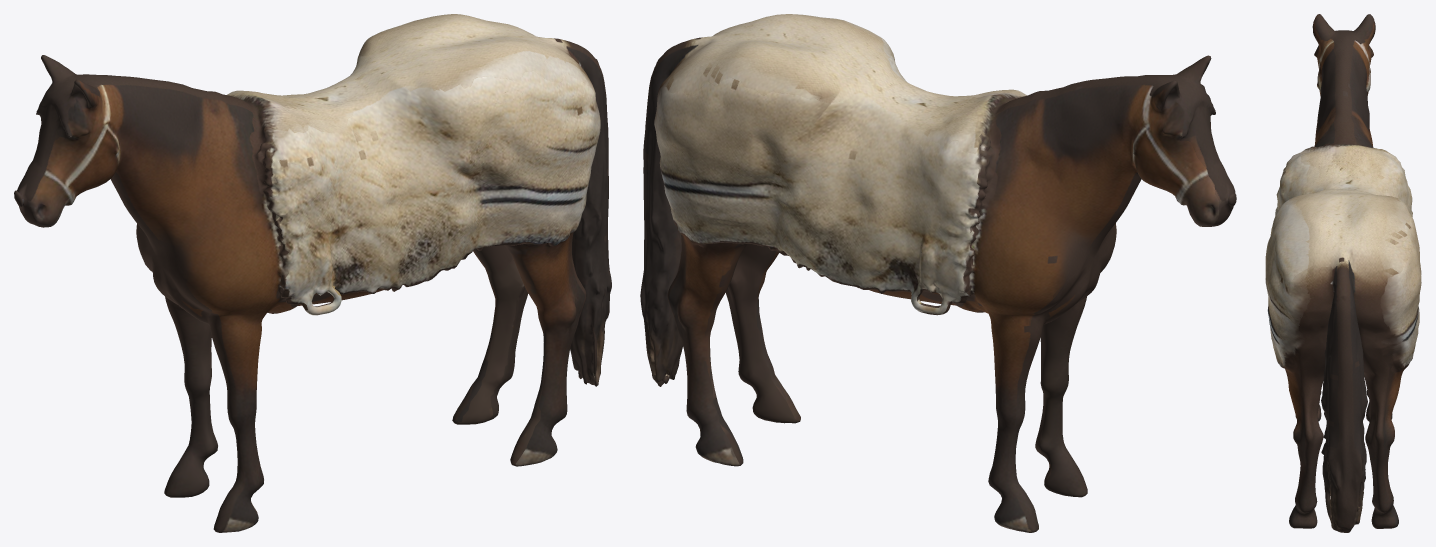
The model's file is caballo_gateado.glb.
3 views of the same model, side by side, from view 1: azimuth 30°, elevation 25°; view 2: azimuth 150°, elevation 25°; view 3: azimuth 270°, elevation 25° (orthographic). The views are drawn at different scales.
Visible parts, largest first — view 1: temp_mesh.ply; view 2: temp_mesh.ply; view 3: temp_mesh.ply.
Boxes of the visible parts, box(x1,y1,x2,y2) form: temp_mesh.ply: box(14, 14, 611, 532); temp_mesh.ply: box(640, 14, 1236, 532); temp_mesh.ply: box(1265, 14, 1421, 532).
Bounding box in the file's own units: 2.3 × 1.79 × 0.7153.
Materials: 1 (1 with a texture image).
